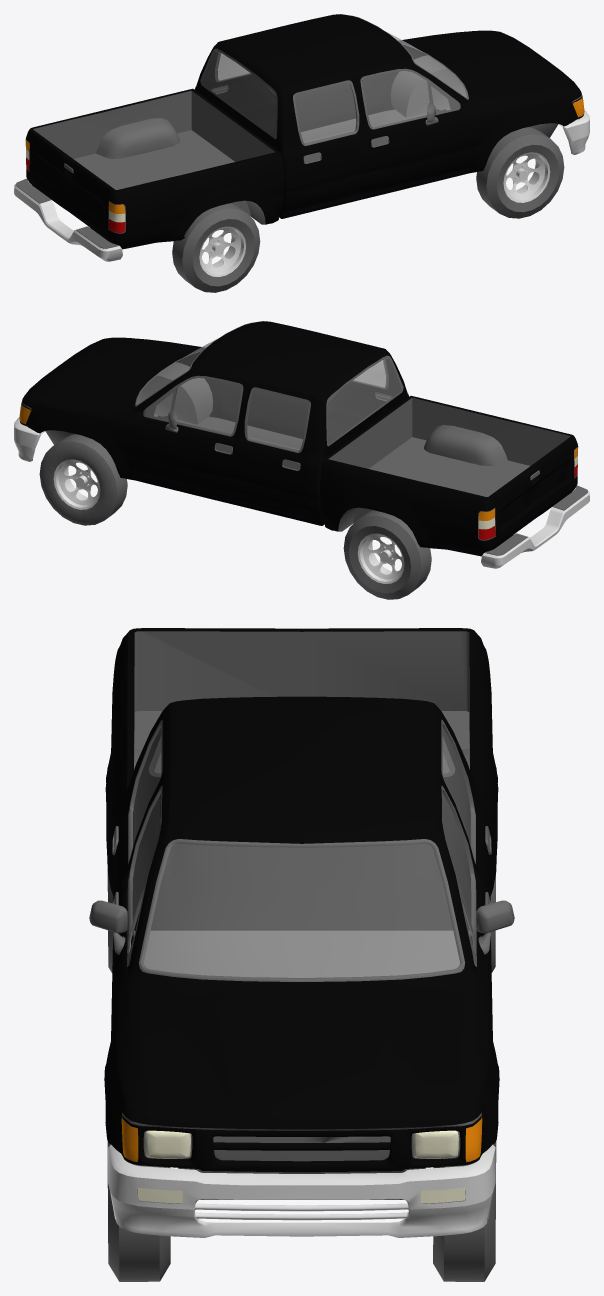
File: police.fbx
3 views of the same model, one above another, from view 1: azimuth 30°, elevation 25°; view 2: azimuth 150°, elevation 25°; view 3: azimuth 270°, elevation 25° (orthographic). The views are drawn at different scales.
Visible parts, largest first — view 1: material_8_16.002, material_5_16.024, material_8_16.005, material_8_16.007, material_8_16.003, material_8_16.006, material_9_16.002, material_8_16.004, material_9_16.003, material_5_16.025, material_6_16.007, material_6_16.003 (+15 smaller); view 2: material_8_16.002, material_5_16.024, material_8_16.005, material_8_16, material_8_16.003, material_8_16.001, material_9_16, material_8_16.004, material_9_16.001, material_5_16.025, material_6_16.007, material_6_16.002 (+15 smaller); view 3: material_8_16.002, material_8_16.003, material_6_16, material_5_16.024, material_5_16.025, material_0_16.001, material_0_16, material_8_16.005, material_2_16.002, material_5_16.010, material_9_16, material_9_16.002 (+21 smaller).
Boxes of the visible parts, x1=… form: material_8_16.002: x1=194, y1=14, x2=581, y2=218; material_5_16.024: x1=33, y1=90, x2=275, y2=189; material_8_16.005: x1=26, y1=88, x2=283, y2=249; material_8_16.007: x1=354, y1=63, x2=477, y2=195; material_8_16.003: x1=407, y1=31, x2=579, y2=98; material_8_16.006: x1=286, y1=73, x2=367, y2=211; material_9_16.002: x1=476, y1=127, x2=564, y2=218; material_8_16.004: x1=29, y1=131, x2=113, y2=235; material_9_16.003: x1=172, y1=203, x2=260, y2=292; material_5_16.025: x1=301, y1=55, x2=558, y2=142; material_6_16.007: x1=202, y1=51, x2=276, y2=136; material_6_16.003: x1=362, y1=71, x2=430, y2=126; material_8_16.002: x1=22, y1=321, x2=409, y2=525; material_5_16.024: x1=328, y1=397, x2=570, y2=496; material_8_16.005: x1=320, y1=395, x2=577, y2=556; material_8_16: x1=126, y1=370, x2=249, y2=502; material_8_16.003: x1=24, y1=338, x2=196, y2=405; material_8_16.001: x1=236, y1=380, x2=317, y2=518; material_9_16: x1=39, y1=434, x2=127, y2=525; material_8_16.004: x1=490, y1=438, x2=574, y2=542; material_9_16.001: x1=343, y1=510, x2=431, y2=599; material_5_16.025: x1=45, y1=362, x2=302, y2=449; material_6_16.007: x1=327, y1=358, x2=401, y2=443; material_6_16.002: x1=174, y1=378, x2=241, y2=433; material_8_16.002: x1=104, y1=696, x2=499, y2=1155; material_8_16.003: x1=142, y1=994, x2=461, y2=1129; material_6_16: x1=144, y1=843, x2=459, y2=977; material_5_16.024: x1=134, y1=631, x2=469, y2=772; material_5_16.025: x1=133, y1=930, x2=470, y2=1199; material_0_16.001: x1=108, y1=1144, x2=495, y2=1209; material_0_16: x1=108, y1=1185, x2=494, y2=1237; material_8_16.005: x1=105, y1=628, x2=498, y2=895; material_2_16.002: x1=198, y1=1129, x2=405, y2=1172; material_5_16.010: x1=139, y1=839, x2=464, y2=981; material_9_16: x1=433, y1=1141, x2=496, y2=1281; material_9_16.002: x1=107, y1=1141, x2=170, y2=1281.
Bounding box in the file's own units: 47489 × 16169 × 17569.
